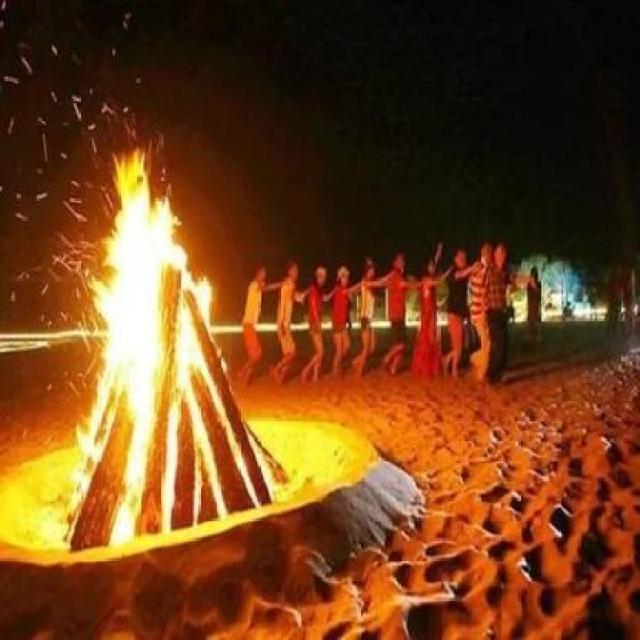Fire: (66, 140, 265, 550)
